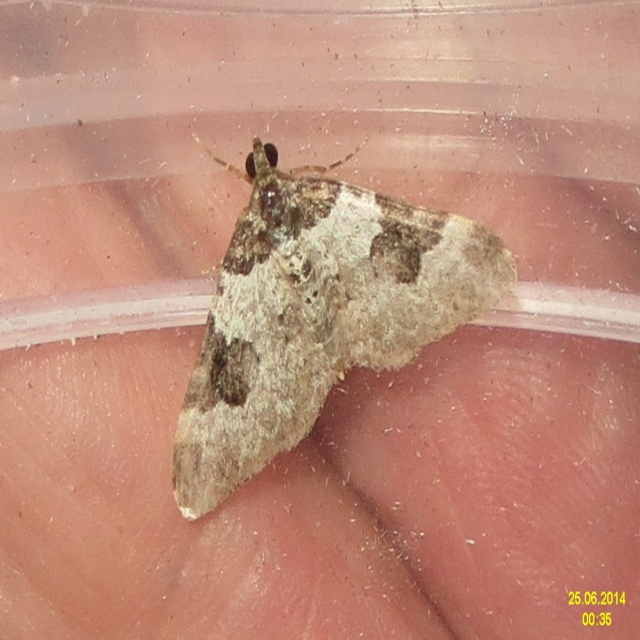Moths and butterflies: (173, 125, 521, 522)
